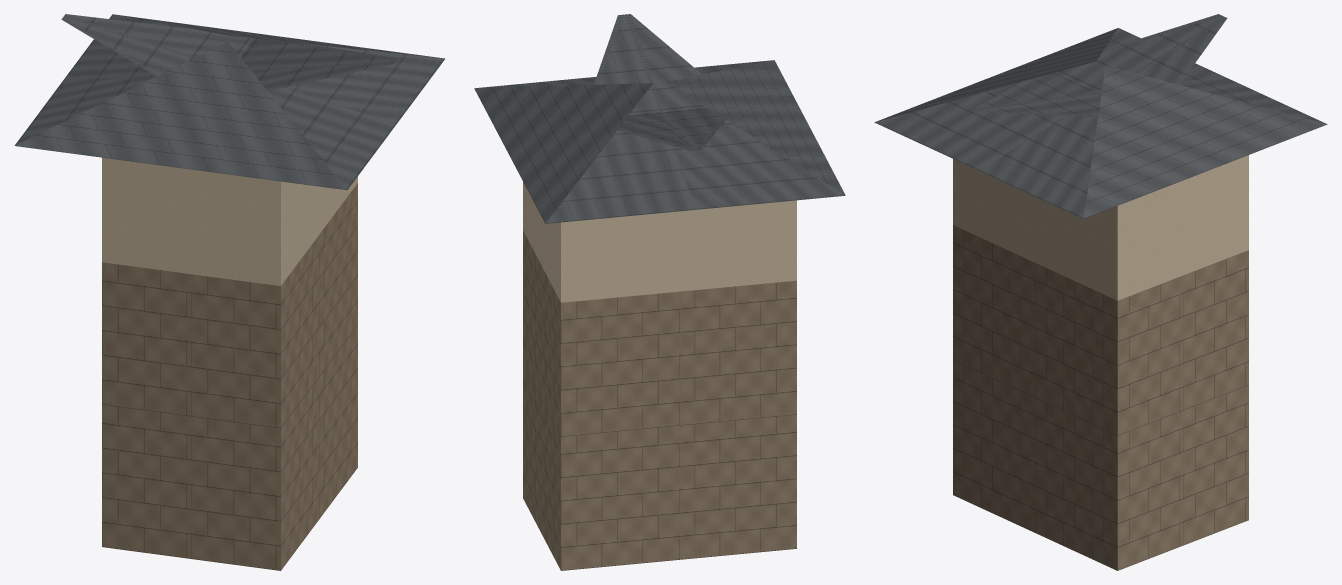
The model's file is bld_c13_25_395.gltf.
The picture shows the model from 3 angles, left to right: view 1: azimuth 30°, elevation 25°; view 2: azimuth 150°, elevation 25°; view 3: azimuth 270°, elevation 25°; orthographic projection. The views are drawn at different scales.
Visible parts, largest first — view 1: bld_c13_25_395; view 2: bld_c13_25_395; view 3: bld_c13_25_395.
Part boxes in pixels (bbox=[...]): bld_c13_25_395: bbox=[14, 14, 444, 570]; bld_c13_25_395: bbox=[474, 14, 845, 570]; bld_c13_25_395: bbox=[874, 14, 1327, 570].
Bounding box in the file's own units: 6.83 × 7.4 × 6.85.
Materials: 3 (3 with a texture image).
